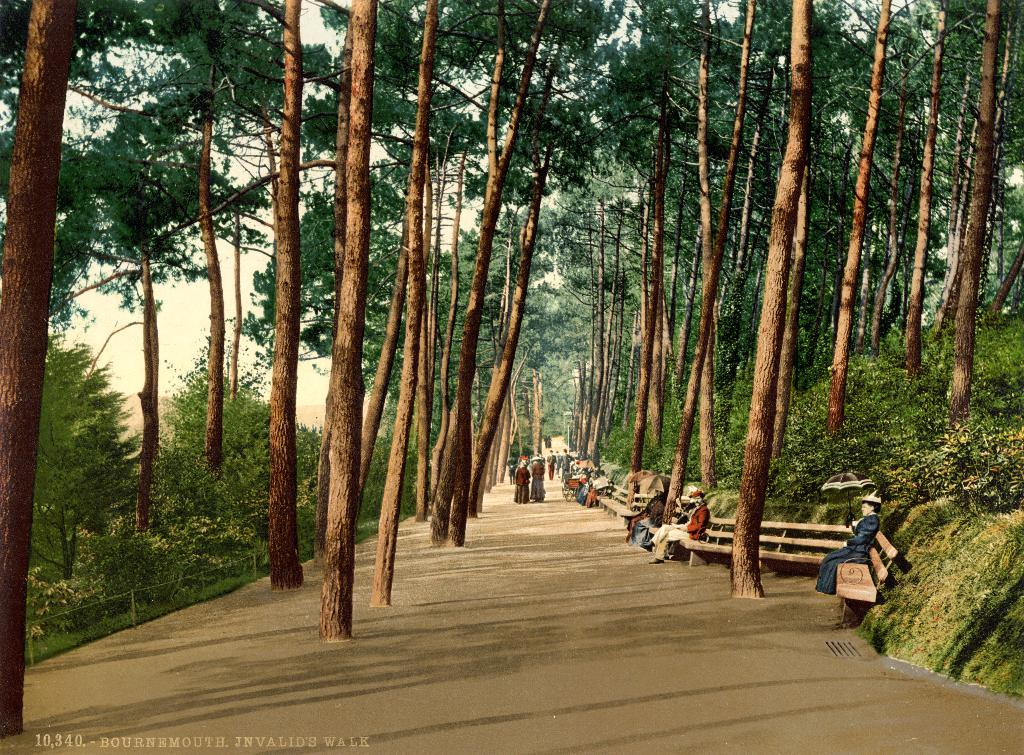Tree: (0, 56, 1023, 738)
